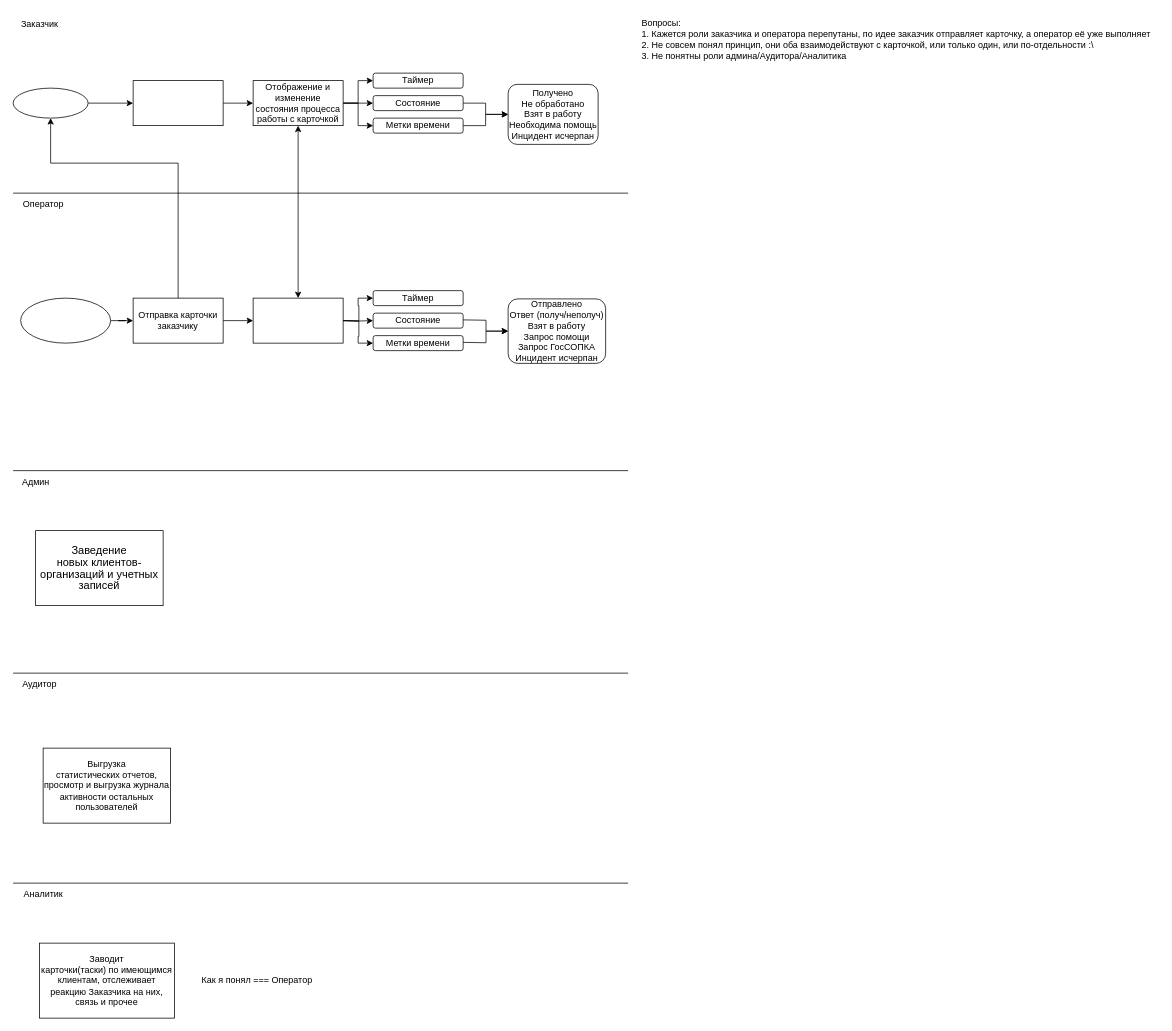
Image size: 1172x1031. Some labels were removed from this diagram. The shapes that lost their labels are listed below. From the top down, each one's centre as x and y in pixels, then its label:
At (x=50, y=102): "Получение карточки".
At (x=177, y=103): "Старт таймера".
At (x=65, y=320): "Создание карточки".
At (x=297, y=320): "Взаимодействие с состоянием карточки".
